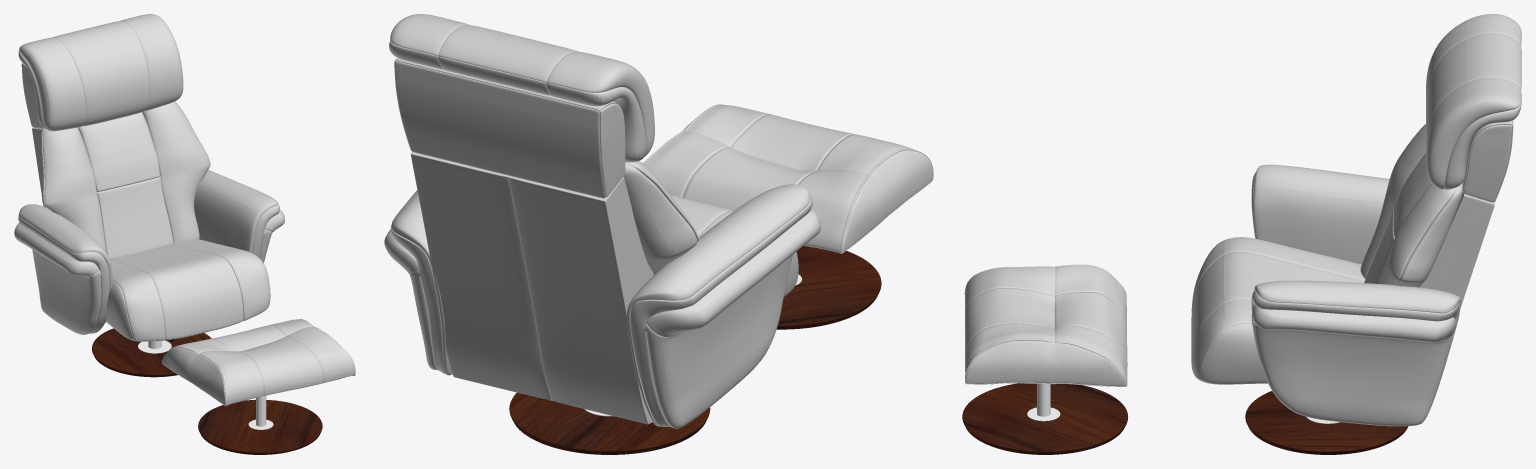
Rendered from SBH_Oslo.glb.
3 views of the same model, side by side, from view 1: azimuth 30°, elevation 25°; view 2: azimuth 150°, elevation 25°; view 3: azimuth 270°, elevation 25° (orthographic). The views are drawn at different scales.
Visible parts, largest first — view 1: Oslo; view 2: Oslo; view 3: Oslo.
Boxes of the visible parts, bbox=[...] form: Oslo: bbox=[14, 14, 355, 454]; Oslo: bbox=[384, 14, 933, 454]; Oslo: bbox=[962, 14, 1521, 454].
Size of the model in its own units: 0.8767 by 1.06 by 1.47.
4 materials, 1 textured.
